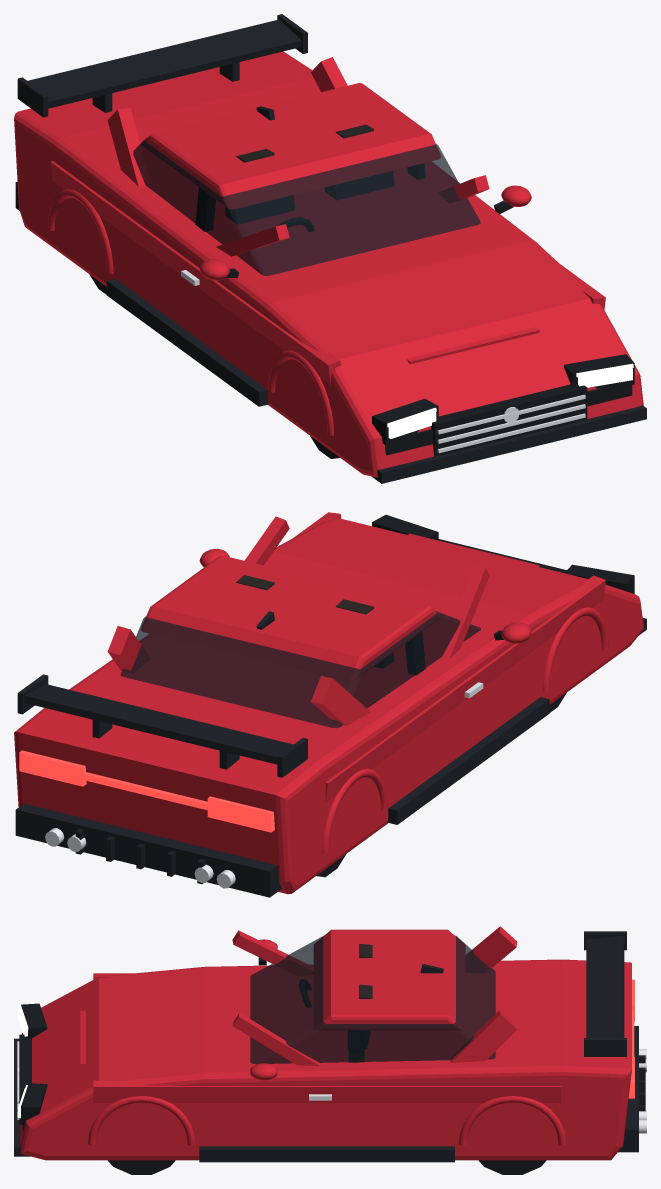
File: car_sports.glb
3 views of the same model, one above another, from view 1: azimuth 30°, elevation 25°; view 2: azimuth 150°, elevation 25°; view 3: azimuth 270°, elevation 25° (orthographic). The views are drawn at different scales.
Parts seen in each view (by area): view 1: car_sports; view 2: car_sports; view 3: car_sports.
Part boxes in pixels (x1=…): car_sports: x1=14, y1=14, x2=646, y2=483; car_sports: x1=14, y1=512, x2=646, y2=897; car_sports: x1=14, y1=926, x2=646, y2=1174.
Bounding box in the file's own units: 2.36 × 1.34 × 4.71.
